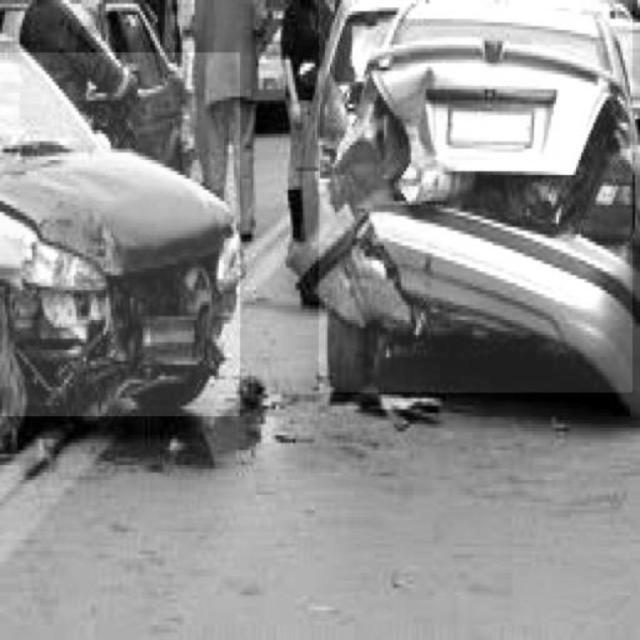vehicle: (319, 1, 633, 393), (0, 53, 240, 417)
